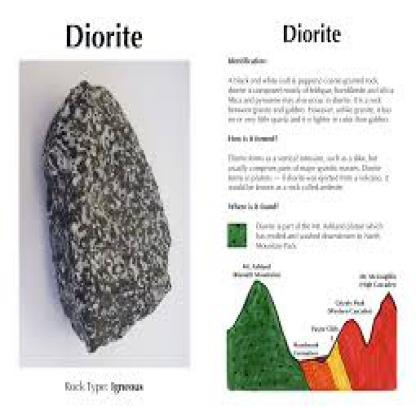Igneous_Diorite: (37, 76, 173, 355)
